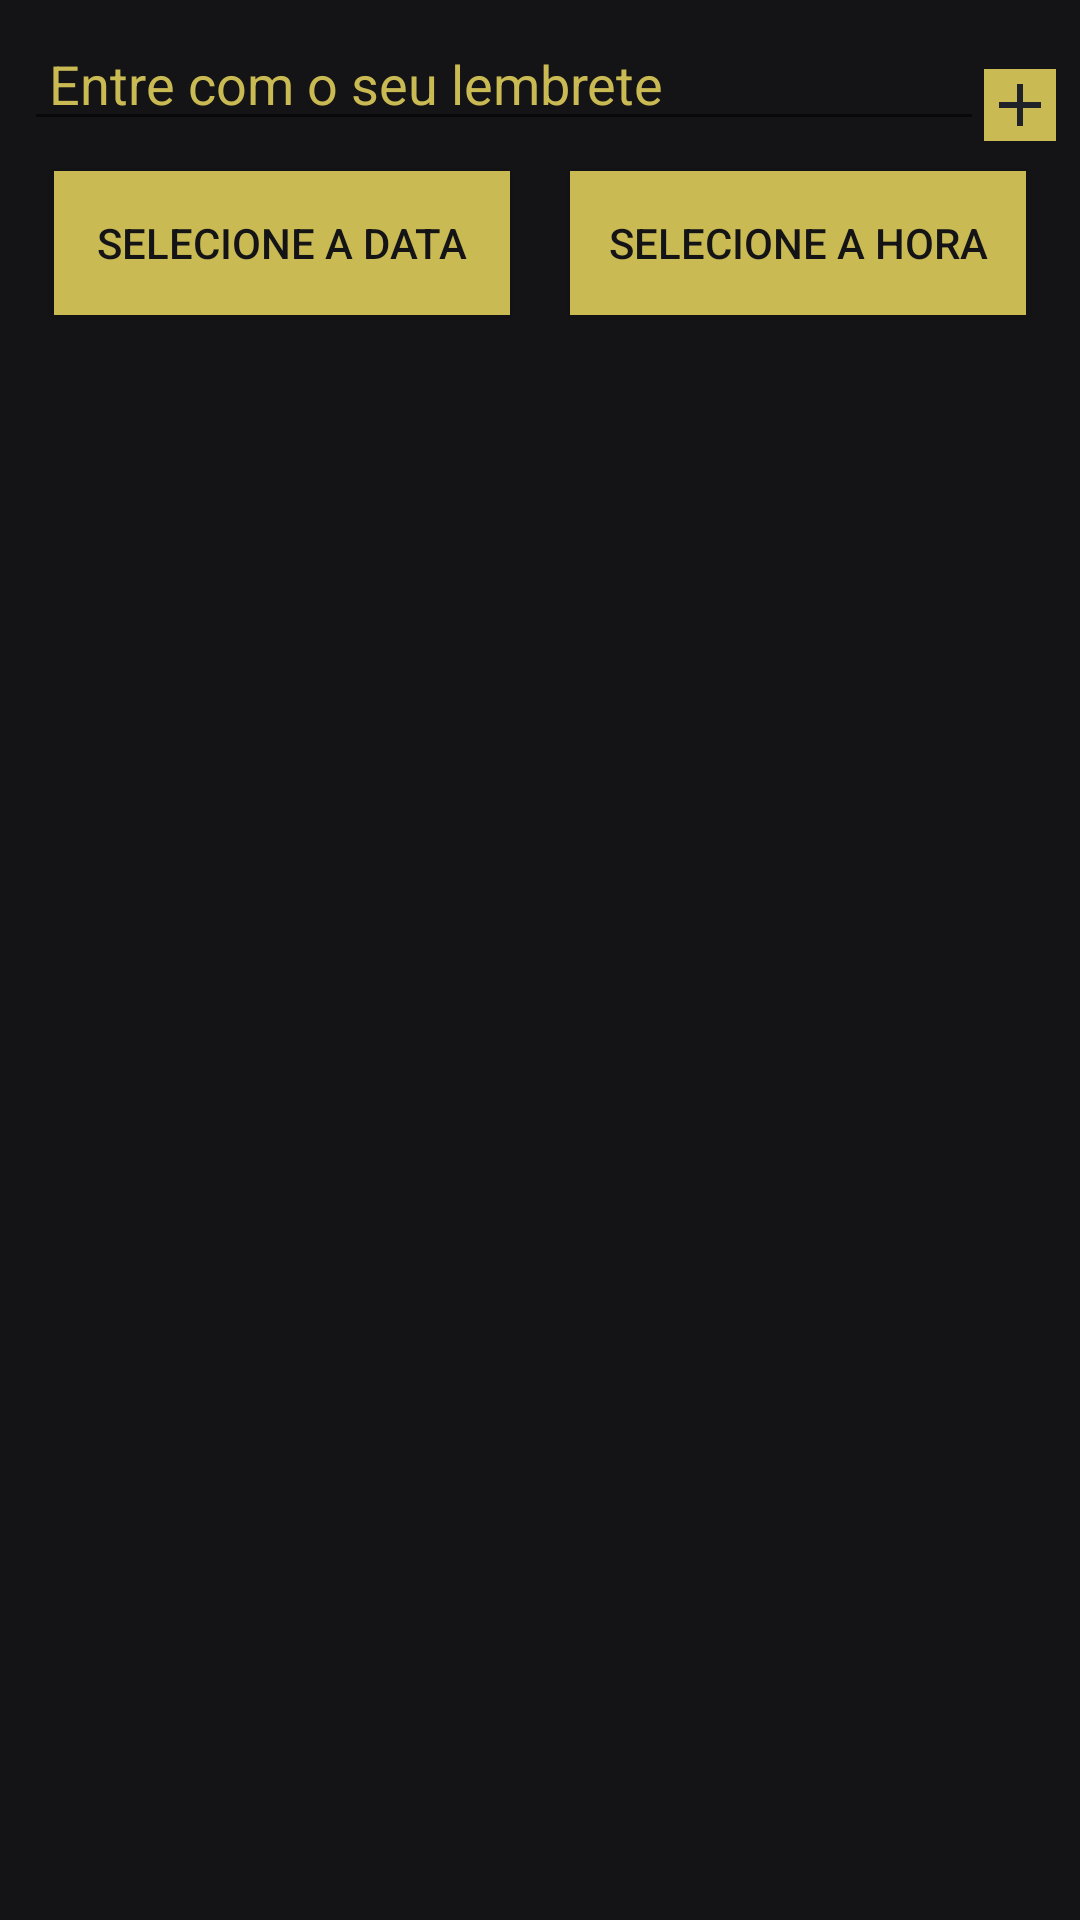

Locate icon controls on the screen. Image size 1080 x 1920, boxes as [left=x1, top=y1, right=x2, bottom=y2].
fuck adicionar: [left=984, top=69, right=1056, bottom=141]
